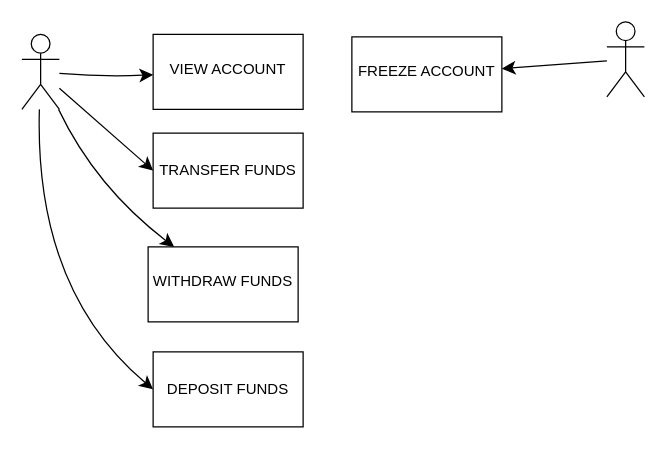
The diagram is 669 pixels wide and 449 high, and some of its shapes have lost their labels. The shapes that lost their labels are listed below. From the top down, each one's centre as x and y in pixels, then its label:
the point at 40,71: User
the point at 625,59: Admin
